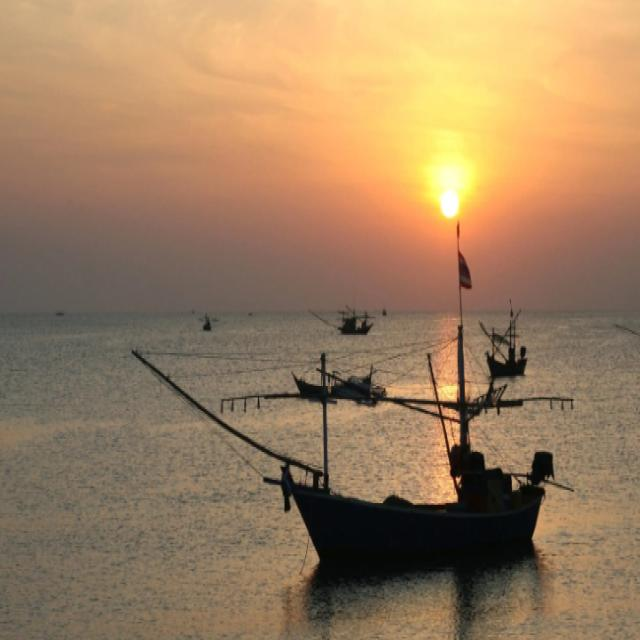fishing boat: (259, 322, 548, 572), (290, 350, 383, 409), (482, 297, 528, 370), (335, 302, 372, 341), (199, 312, 214, 334)
